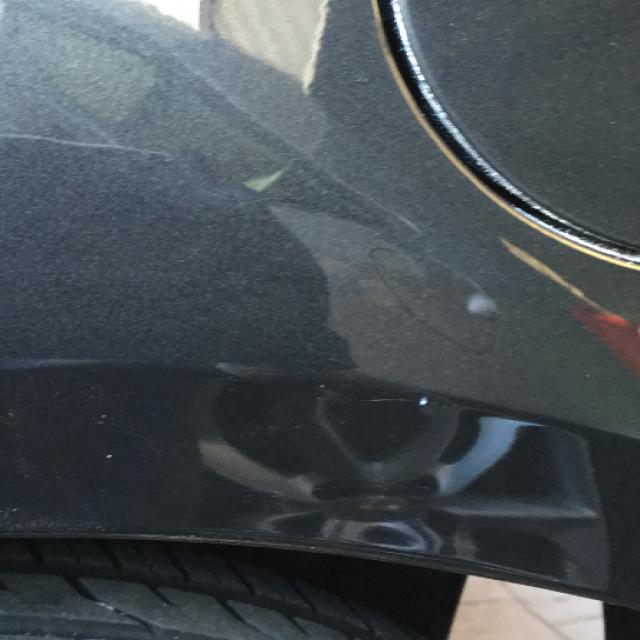dents: (317, 220, 569, 388)
